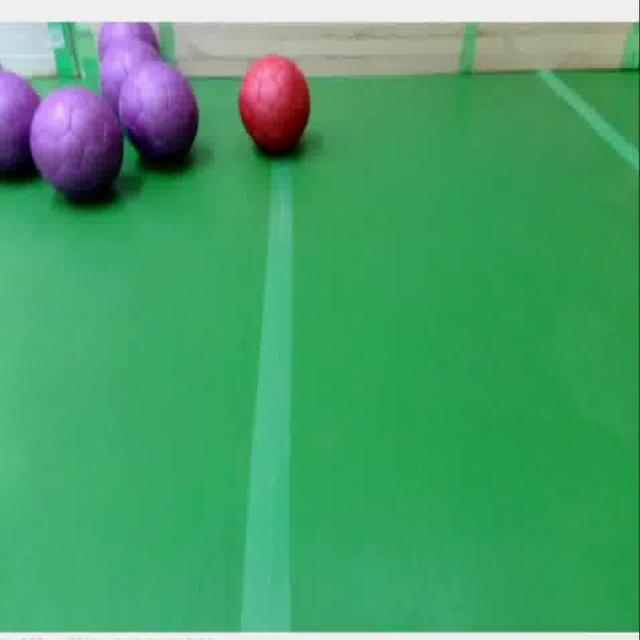purple_ball: (33, 89, 125, 202), (120, 64, 199, 162), (0, 71, 42, 177), (102, 38, 165, 106), (100, 21, 156, 45)
